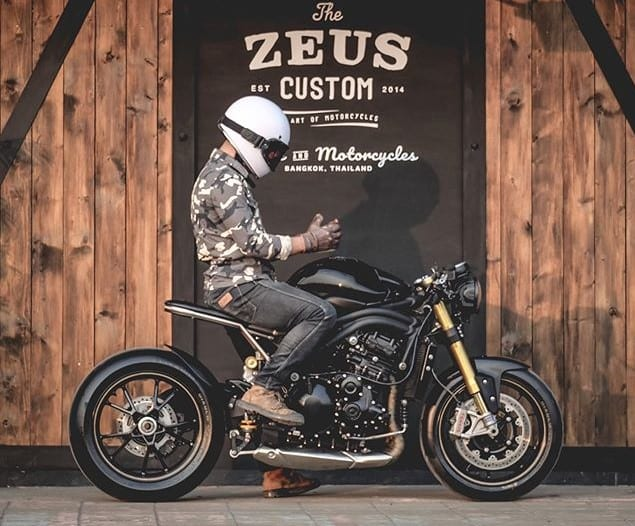motorcycle: (62, 269, 573, 501)
